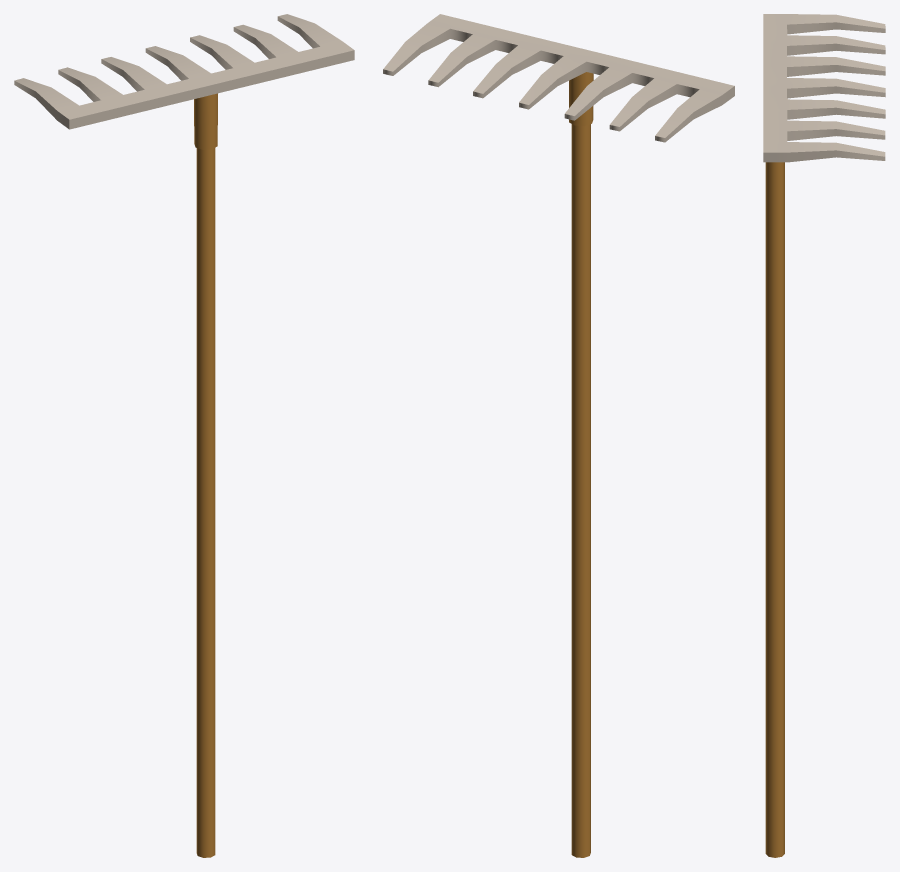
Rendered from Props_Rateau.fbx.
3 views of the same model, side by side, from view 1: azimuth 30°, elevation 25°; view 2: azimuth 150°, elevation 25°; view 3: azimuth 270°, elevation 25° (orthographic). The views are drawn at different scales.
Parts seen in each view (by area): view 1: rateau; view 2: rateau; view 3: rateau.
Boxes of the visible parts, x1=… form: rateau: x1=14, y1=14, x2=354, y2=857; rateau: x1=383, y1=14, x2=734, y2=857; rateau: x1=763, y1=14, x2=885, y2=857.
Bounding box in the file's own units: 25.56 × 66.31 × 9.55.
